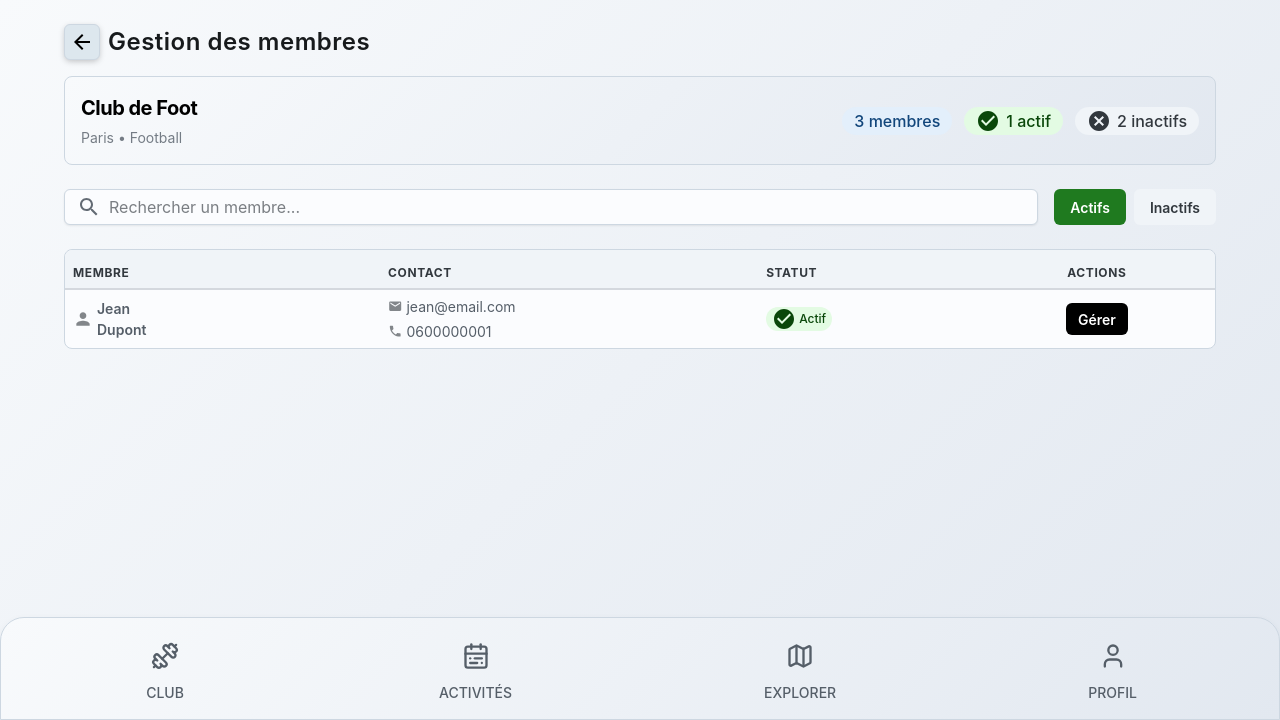
Scenario: ManageMembers › affiche la modale pour un membre inactif (désinscrit)
Expected: the button "Gérer" is shown, [1066, 303, 1128, 335]
// Afficher les membres inactifs puis ouvrir la modale du deuxième inactif
Click the button "Inactifs".
click(1175, 207)  # box [1134, 189, 1216, 225]
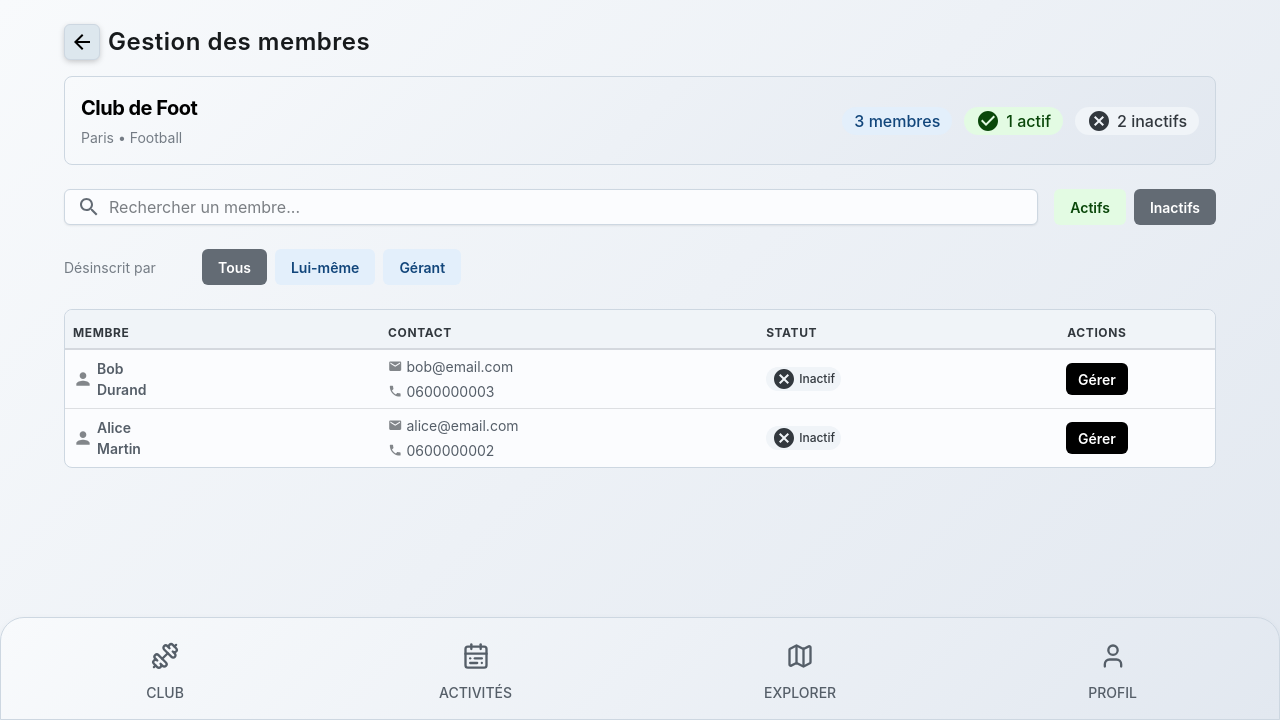
Click the button "Gérer" in the row of "Martin".
click(1097, 438)  # box [1066, 422, 1128, 454]
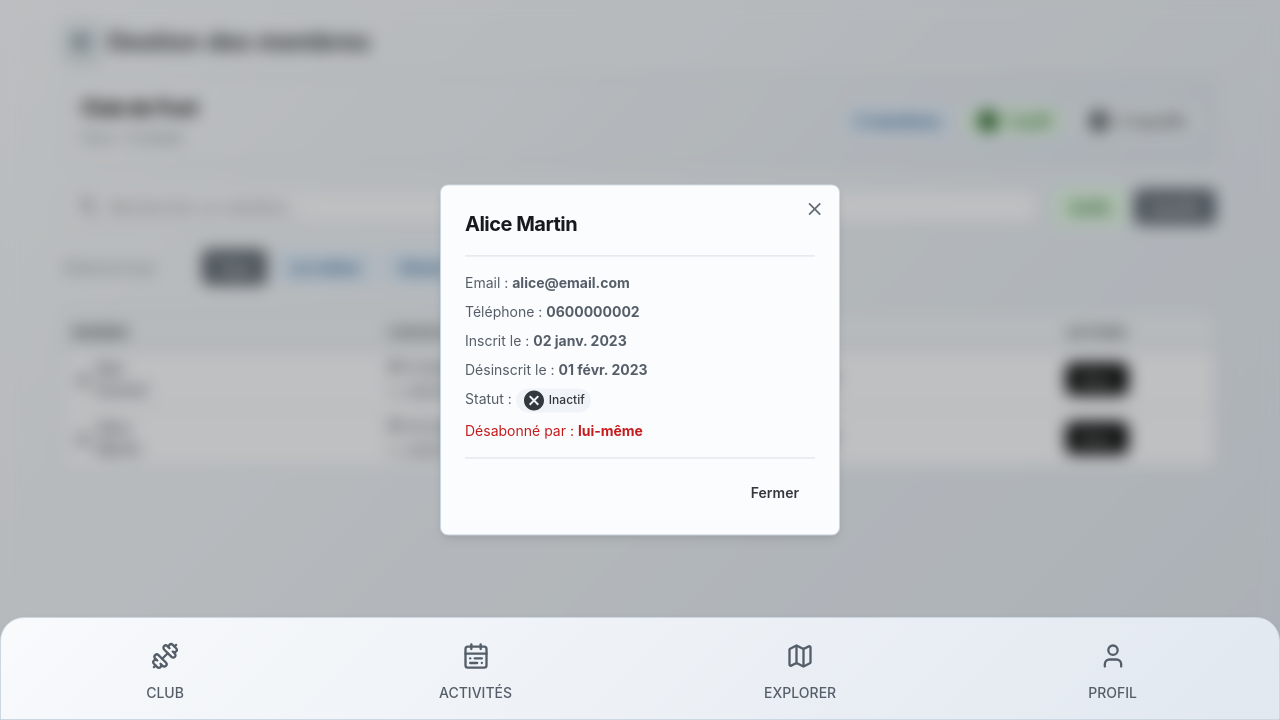
Result: the heading "Alice Martin" is shown at [465, 212, 577, 236]
Result: the text "Désinscrit le" is shown at [465, 361, 554, 378]
Result: the text "Inactif" is shown at [549, 392, 585, 410]
